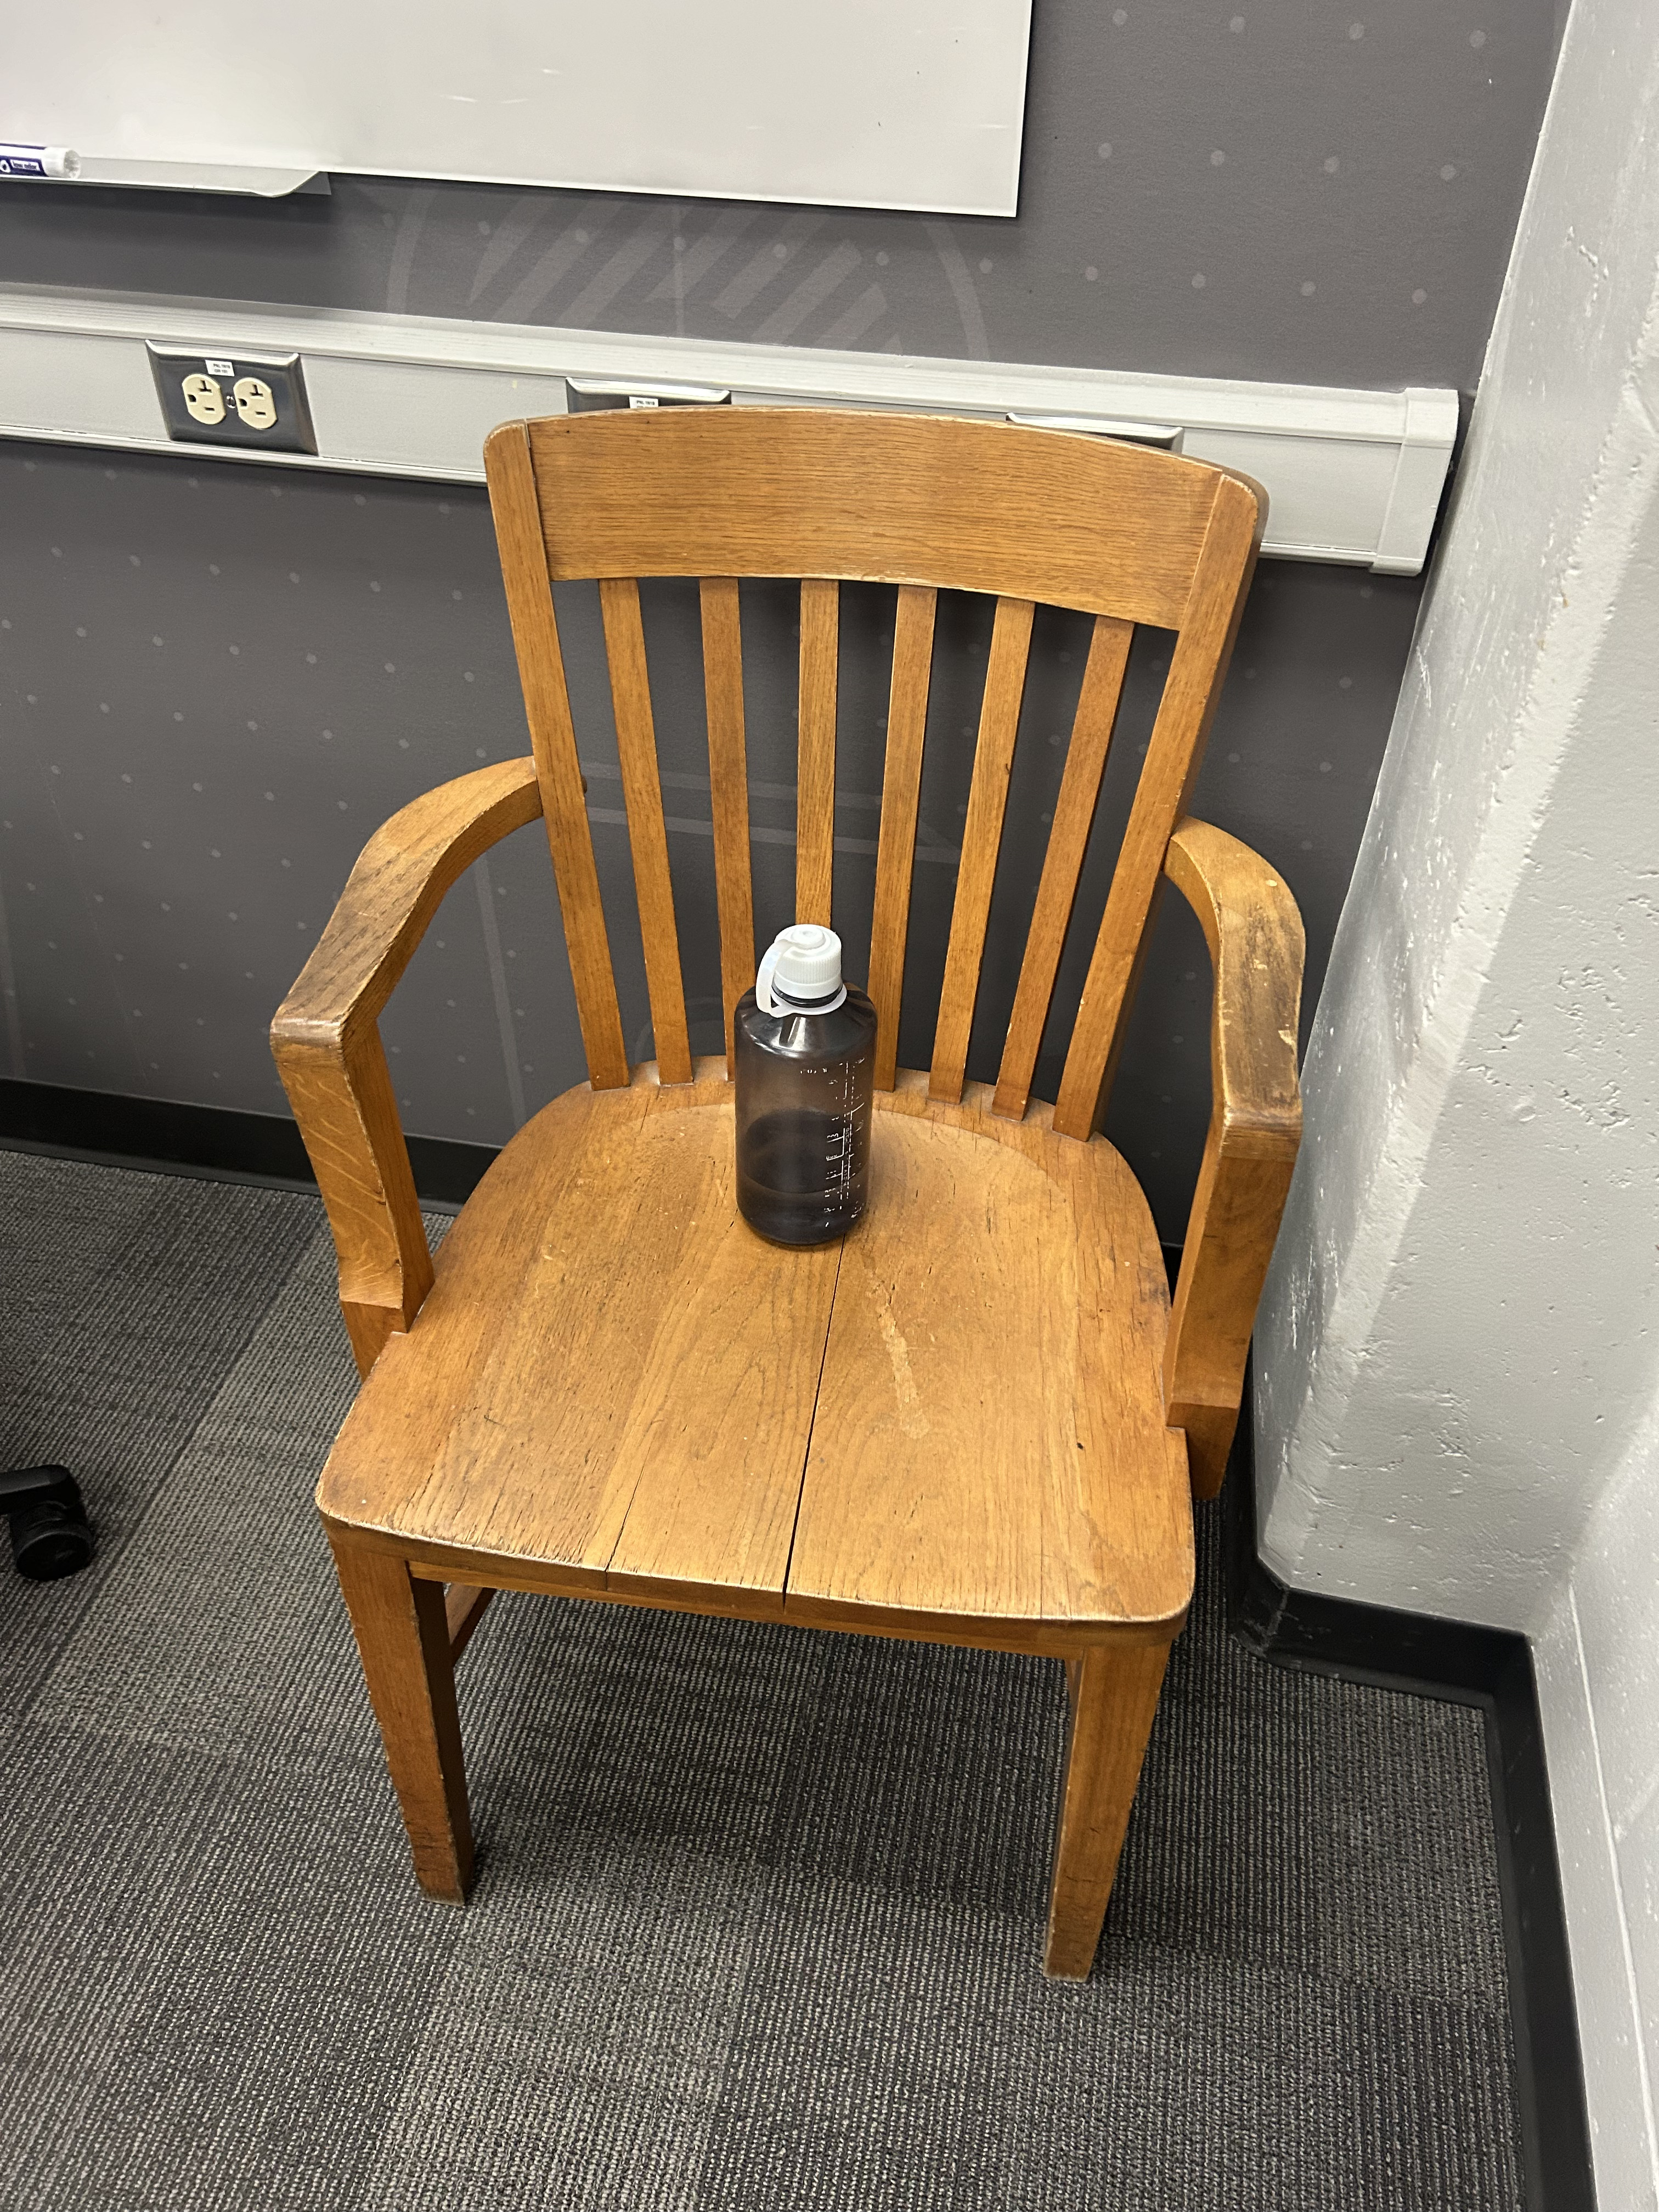bottle: (728, 909, 880, 1249)
